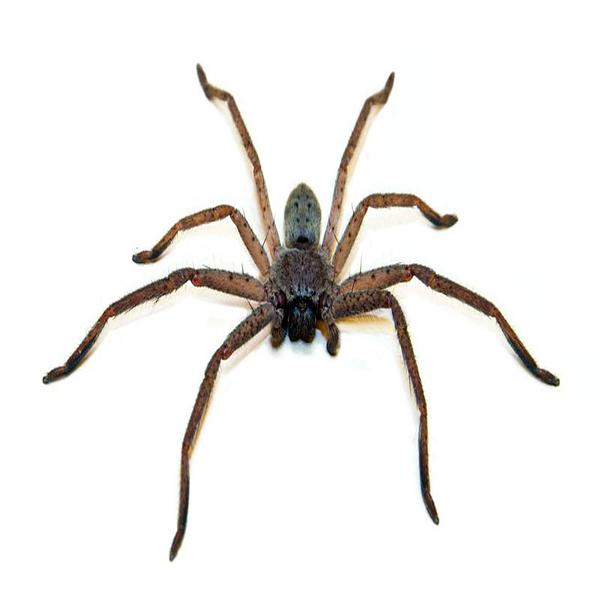Huntsman Spider: (50, 58, 552, 534)
